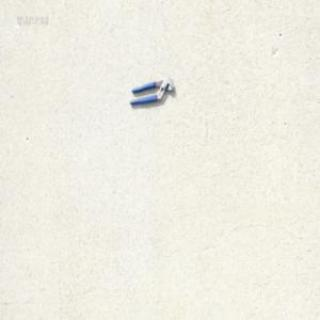Pliertrack_idkeyframe: (128, 75, 174, 106)
